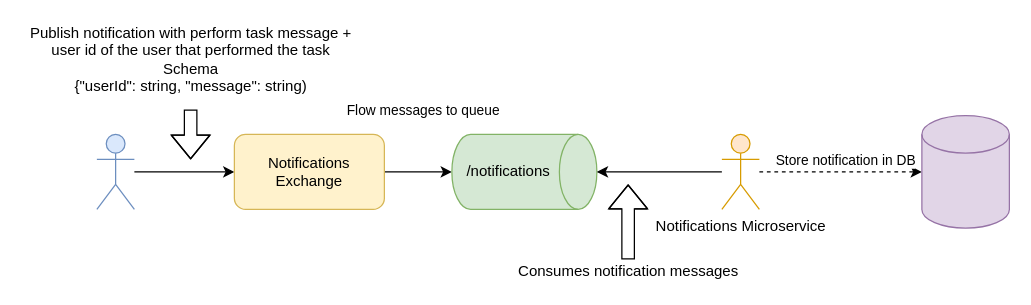
This 1031x305 diagram has some shape labels left out. The shapes that lost their labels are listed below. From the top down, each one's centre as x and y in pixels, then its label:
pixel 115 171: Tasks Microservice
pixel 965 171: Notification DB
